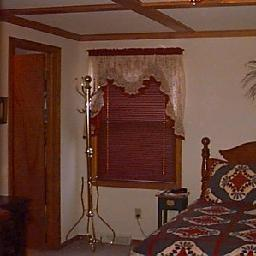Cama: (131, 140, 255, 252)
Otro Obstaculo: (71, 74, 111, 244)
Puerta: (17, 57, 48, 241)
Ventana: (94, 57, 178, 186)
